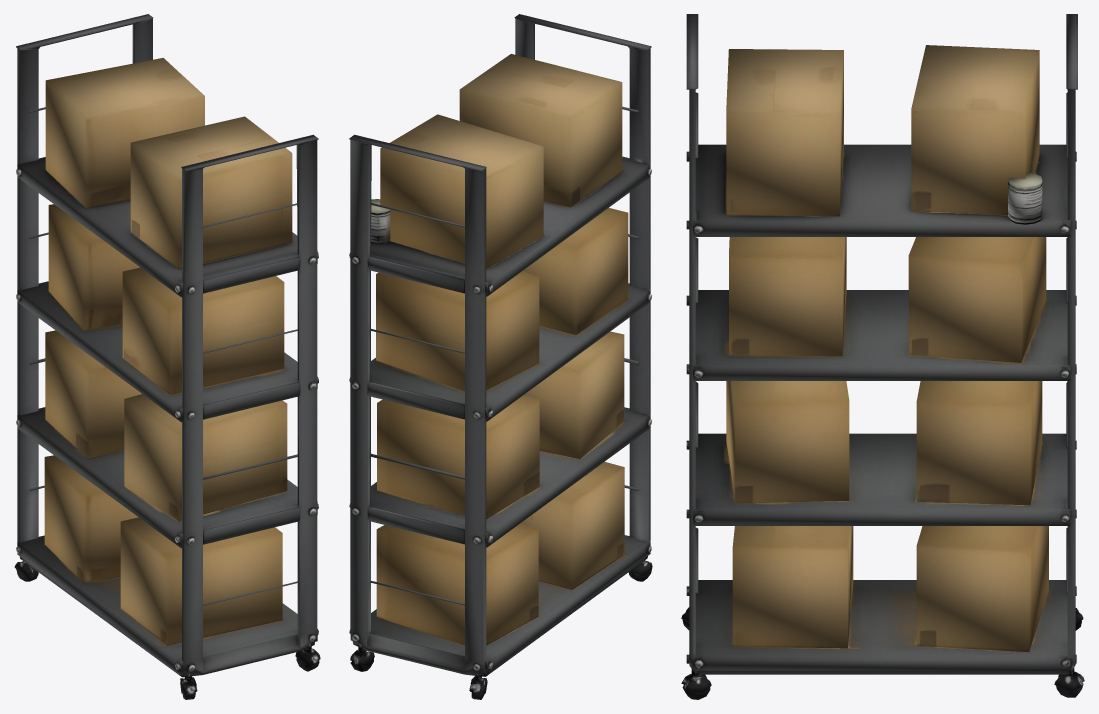
The picture shows the model from 3 angles, left to right: view 1: azimuth 30°, elevation 25°; view 2: azimuth 150°, elevation 25°; view 3: azimuth 270°, elevation 25°; orthographic projection. The views are drawn at different scales.
Parts seen in each view (by area): view 1: tripo_node_d237db84-9346-44c3-ae6e-189efec33d1f; view 2: tripo_node_d237db84-9346-44c3-ae6e-189efec33d1f; view 3: tripo_node_d237db84-9346-44c3-ae6e-189efec33d1f.
Boxes of the visible parts, bbox=[...] form: tripo_node_d237db84-9346-44c3-ae6e-189efec33d1f: bbox=[14, 14, 320, 699]; tripo_node_d237db84-9346-44c3-ae6e-189efec33d1f: bbox=[349, 14, 652, 699]; tripo_node_d237db84-9346-44c3-ae6e-189efec33d1f: bbox=[681, 14, 1084, 699].
Bounding box in the file's own units: 0.2832 × 0.998 × 0.5957.
1 material, 1 textured.
